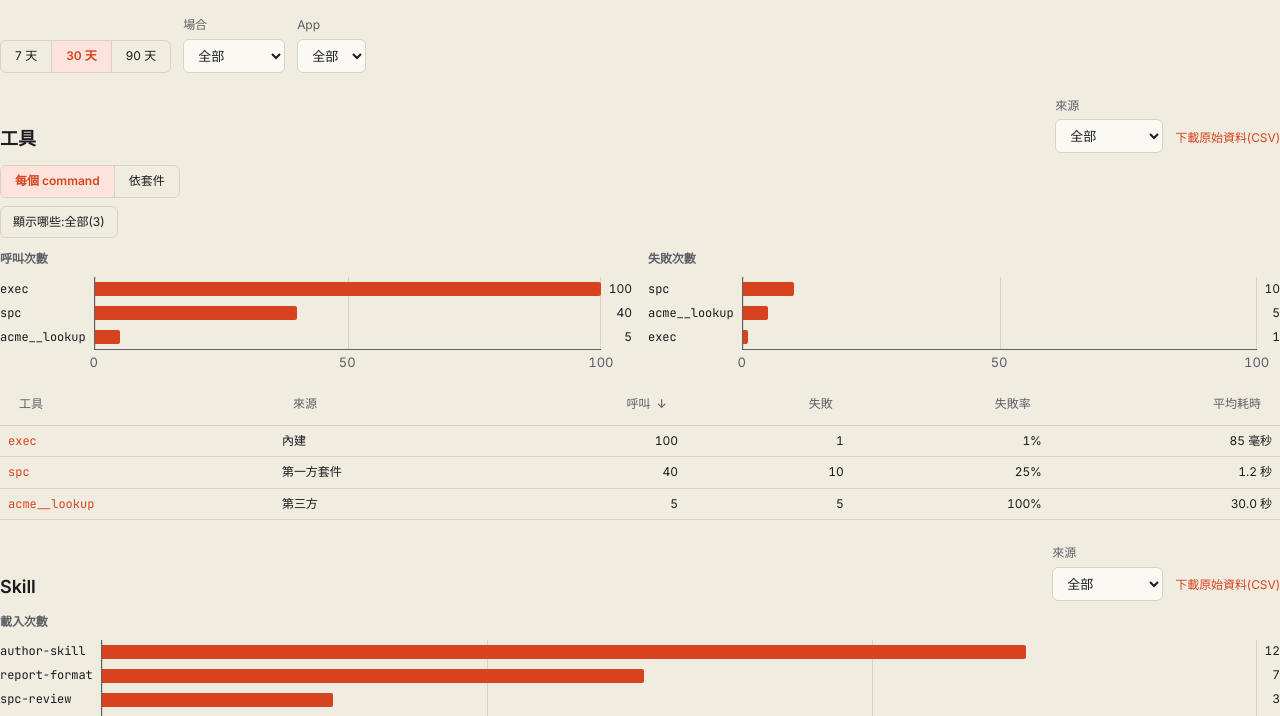
Test: which tools, at which granularity (plan §9) › says so when nothing is ticked
Click the button "顯示哪些:全部(3)": (59, 222) 0,206 -> 118,238
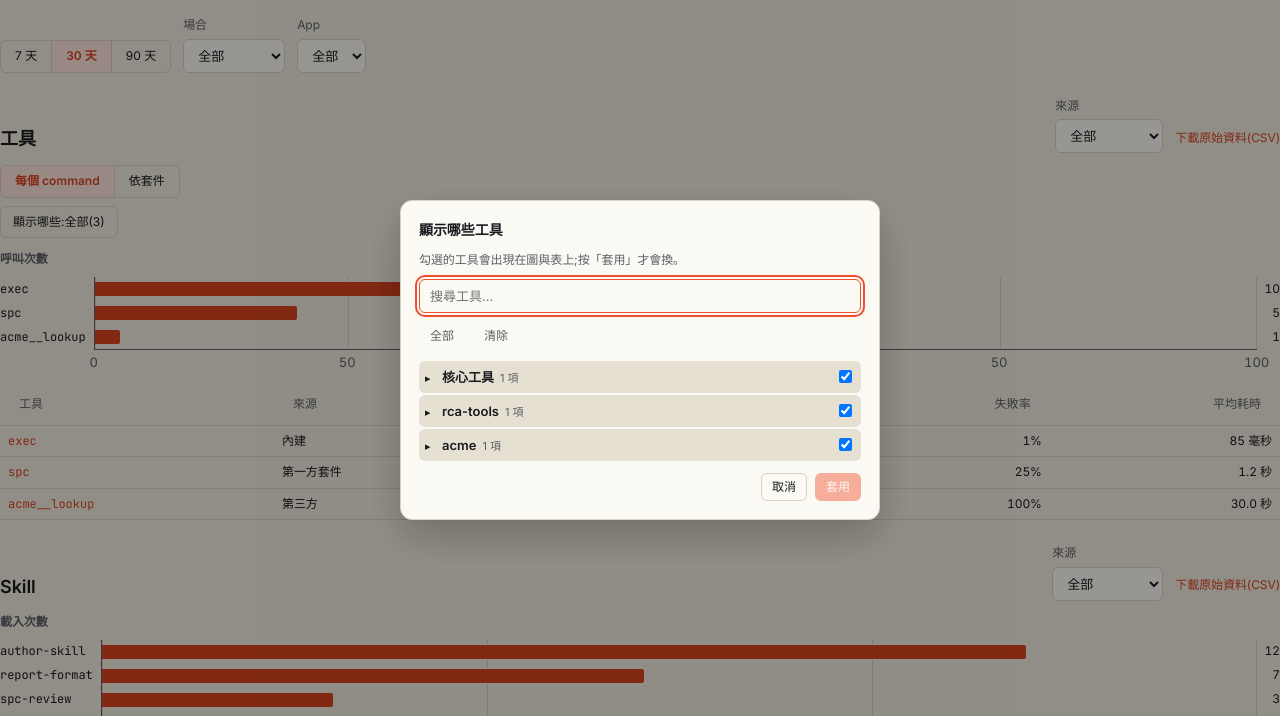
Click the button "清除": (496, 337) 473,323 -> 519,351
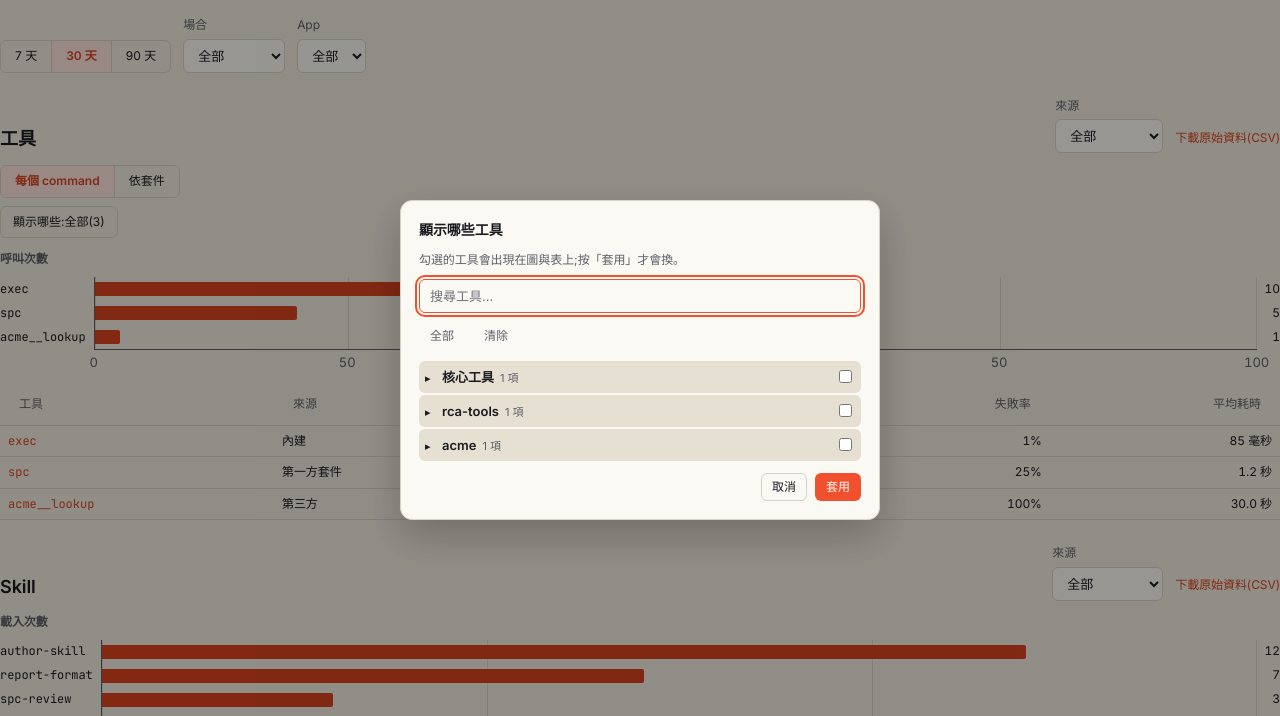
Click the button "套用": (838, 487) 815,473 -> 861,501
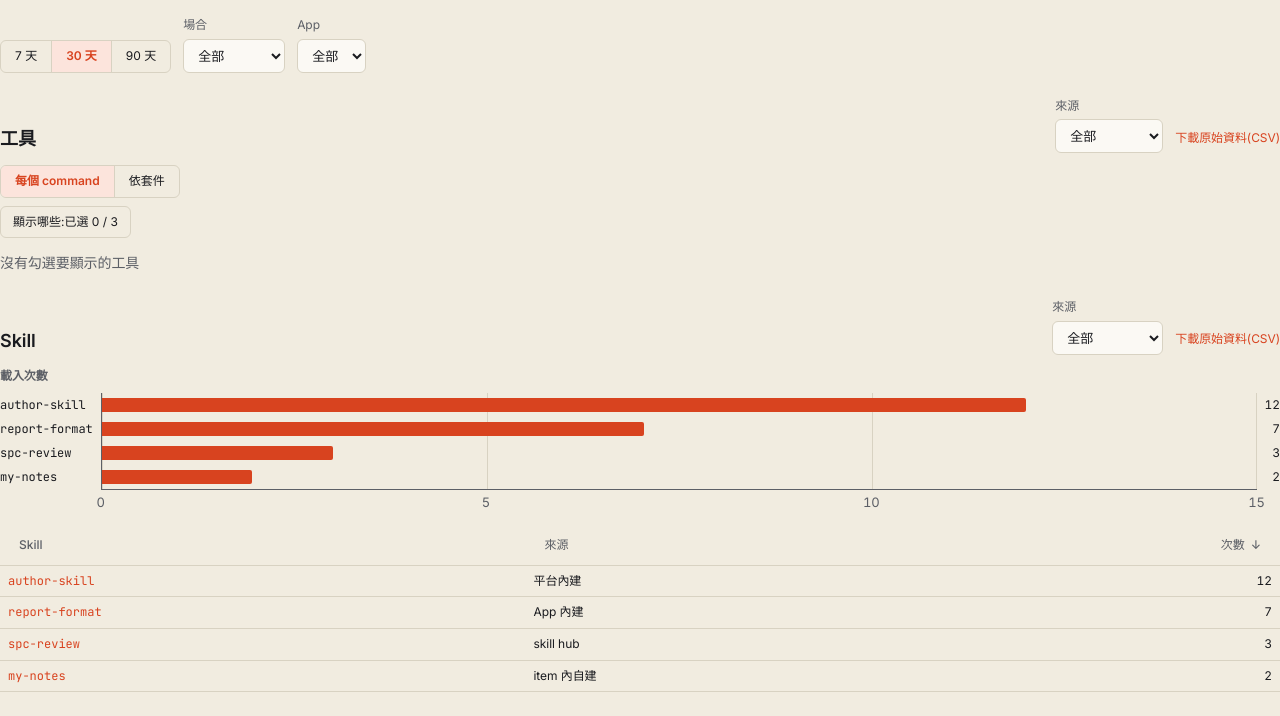
Expected: the text "沒有勾選要顯示的工具" is shown, 0,254 -> 139,271
